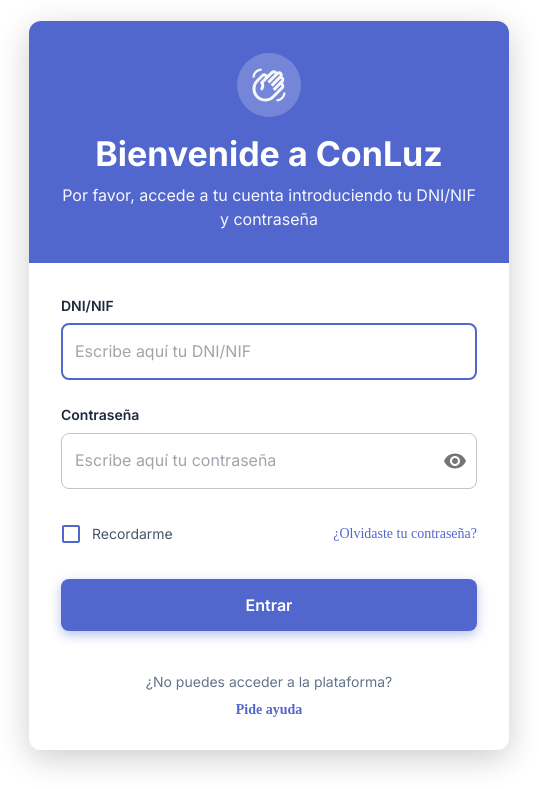
Login component › when the login is throttled (429) › names no wait when neither is present
Type "1234567Z" into the field with placeholder "Escribe aquí tu DNI/NIF" at [269, 352], box left=61, top=324, right=477, bottom=380
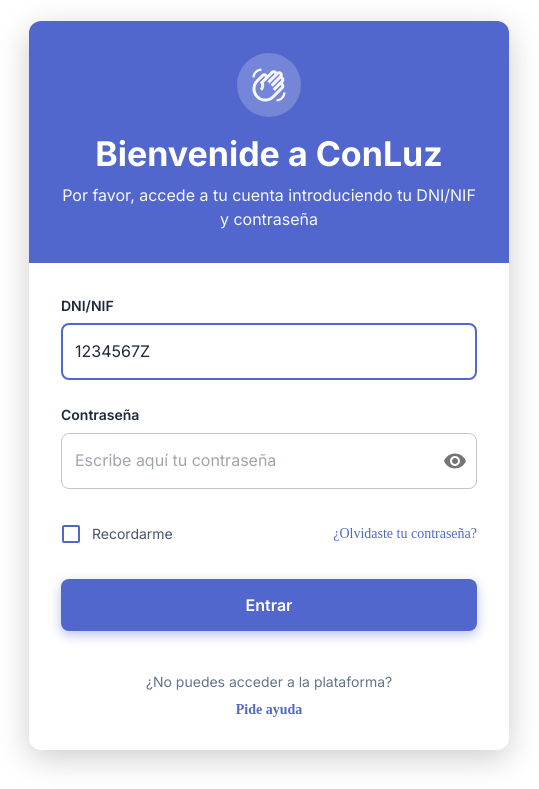
Click the password field with placeholder "Escribe aquí tu contraseña" at [244, 461], box left=61, top=433, right=427, bottom=489
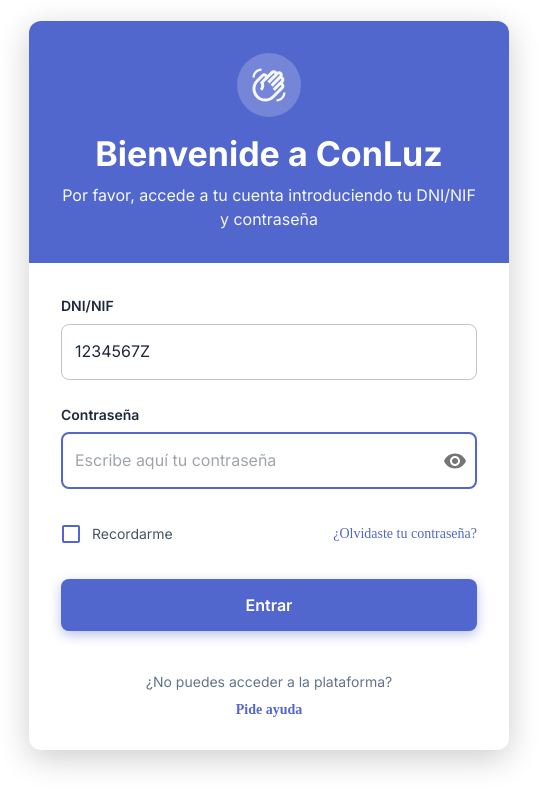
Type keys "una contraseña cualquiera"
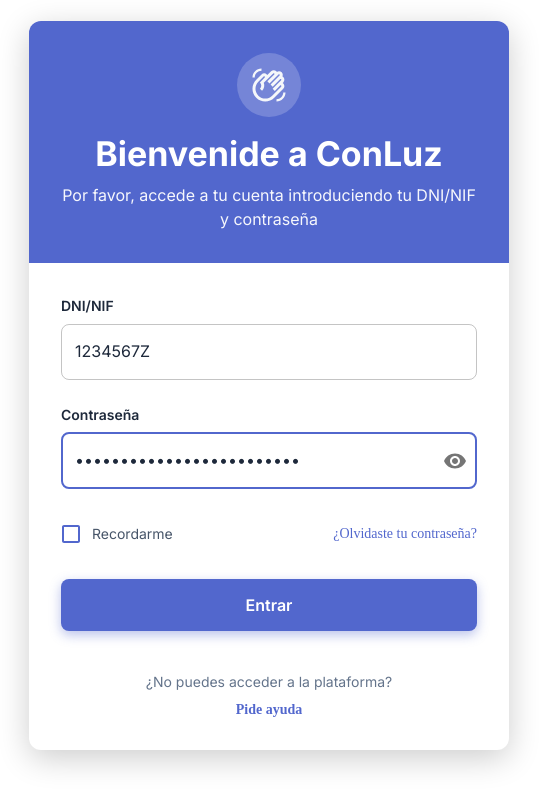
Click the button "Entrar" at [269, 605], box left=61, top=579, right=477, bottom=631
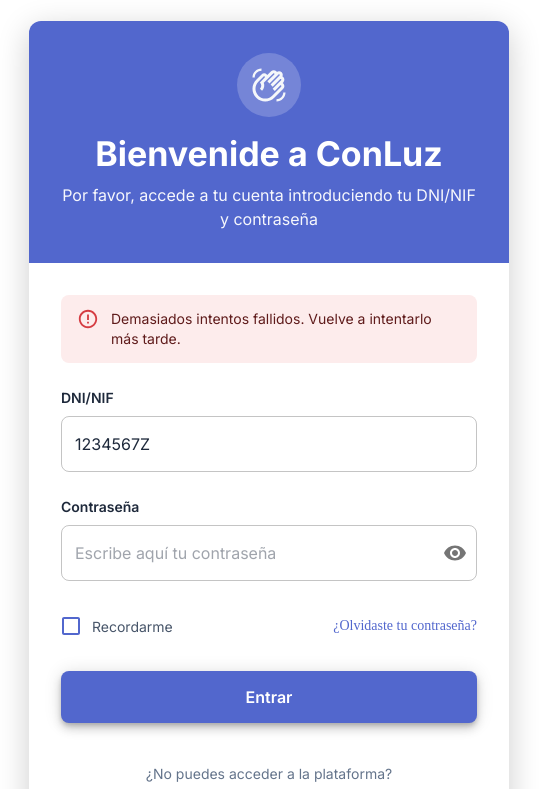
Now the message reads "Demasiados intentos fallidos. Vuelve a intentarlo más tarde.", box left=111, top=310, right=432, bottom=347
